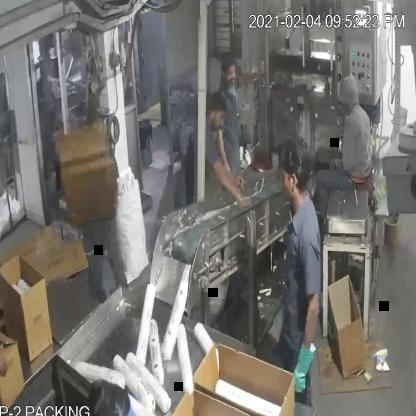glove: (292, 327, 317, 396)
no_glove: (202, 140, 251, 212), (215, 123, 235, 181), (0, 346, 19, 380)
